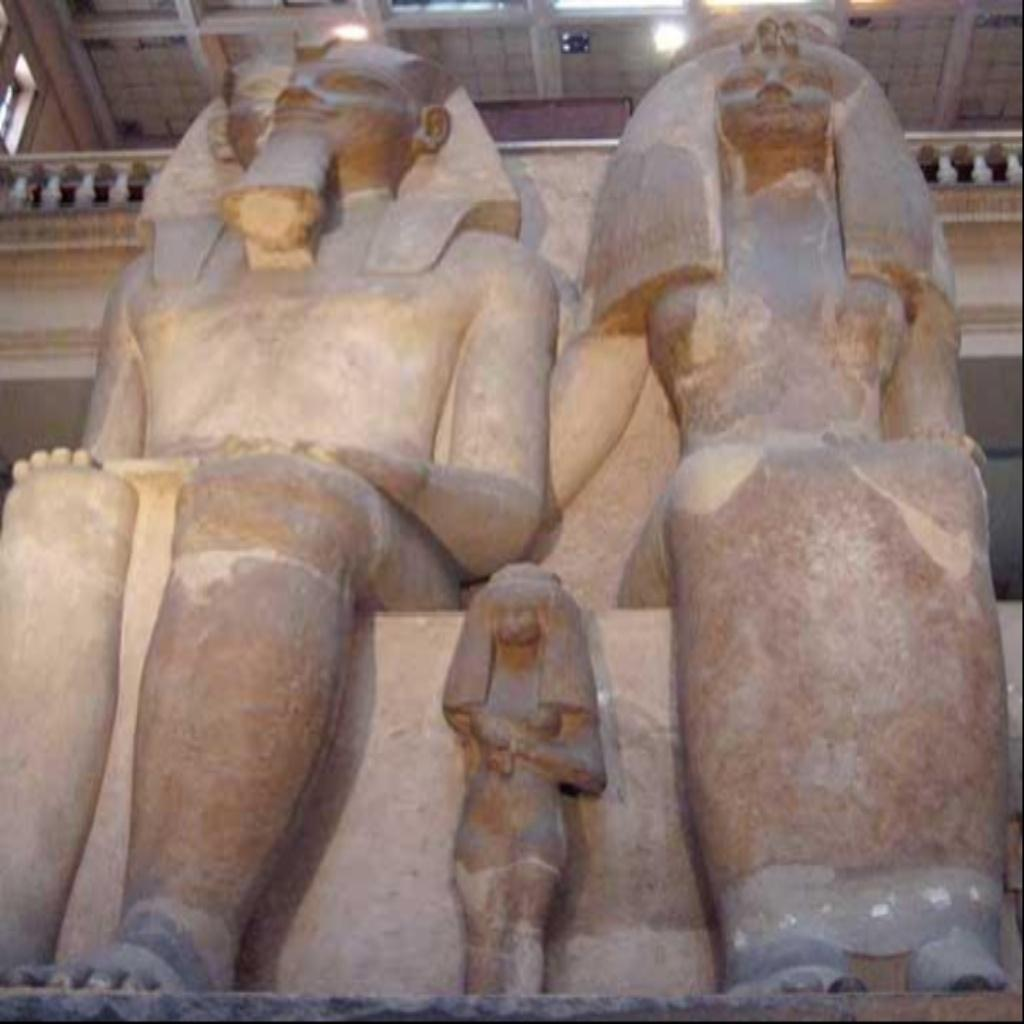Amenhotep III and Tiye: (3, 32, 1007, 1019)
